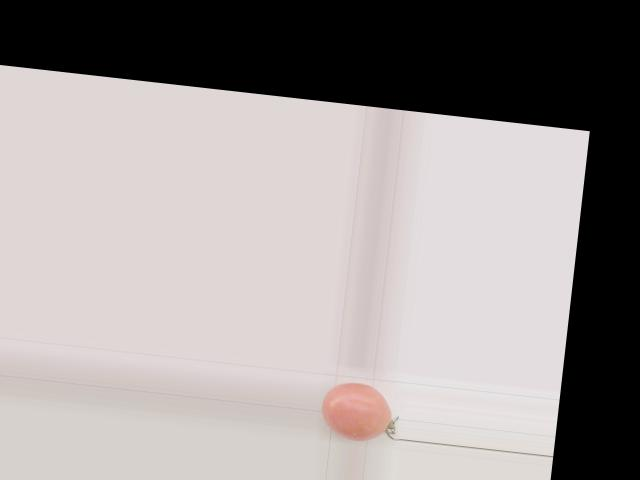tomato: (318, 379, 395, 444)
